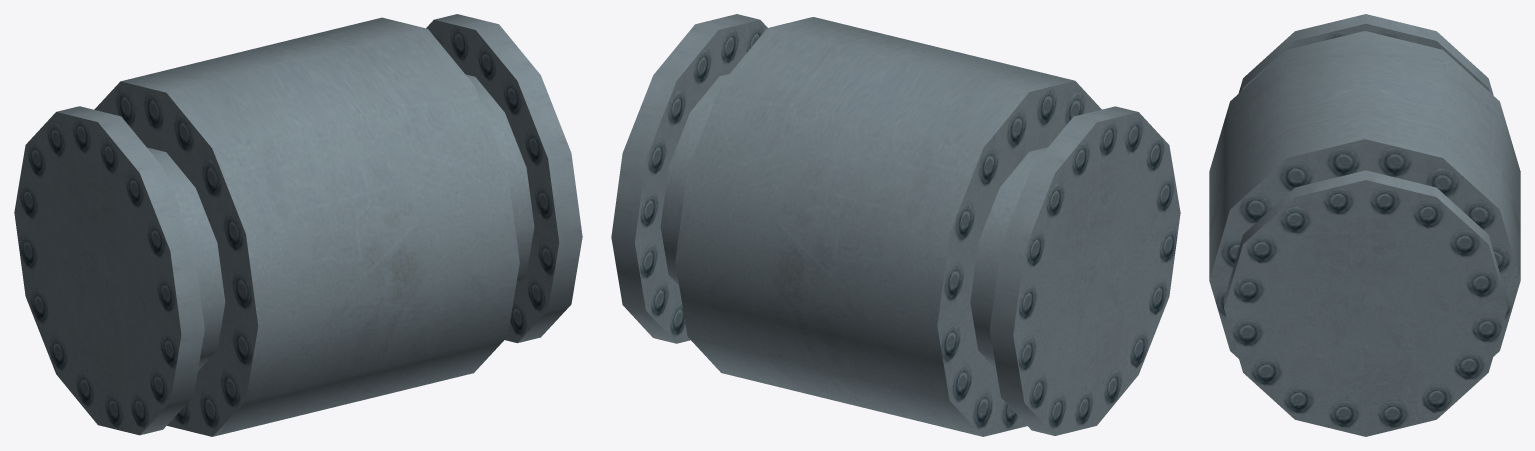
3 views of the same model, side by side, from view 1: azimuth 30°, elevation 25°; view 2: azimuth 150°, elevation 25°; view 3: azimuth 270°, elevation 25° (orthographic). The views are drawn at different scales.
Parts seen in each view (by area): view 1: 553060; view 2: 553060; view 3: 553060.
Part boxes in pixels (bbox=[...]): 553060: bbox=[14, 14, 582, 436]; 553060: bbox=[611, 14, 1180, 436]; 553060: bbox=[1209, 14, 1520, 436].
Size of the model in its own units: 1.39 by 1.1 by 1.1.
3 materials, 3 textured.
